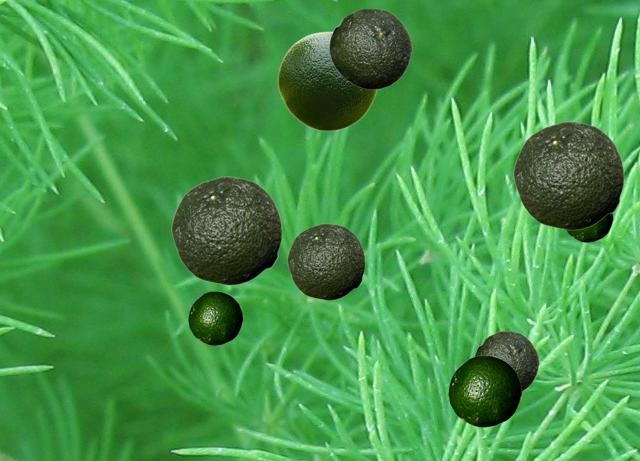calamansi: (513, 121, 623, 229), (171, 176, 281, 284), (277, 31, 377, 130), (329, 8, 411, 88), (287, 223, 364, 299), (448, 355, 521, 426), (474, 331, 538, 392), (188, 291, 242, 344), (565, 215, 612, 241)
